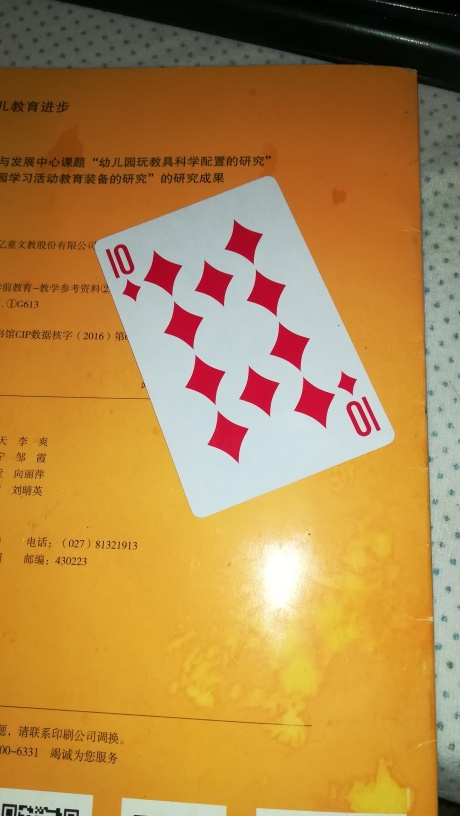fk 10: (94, 174, 396, 519)
